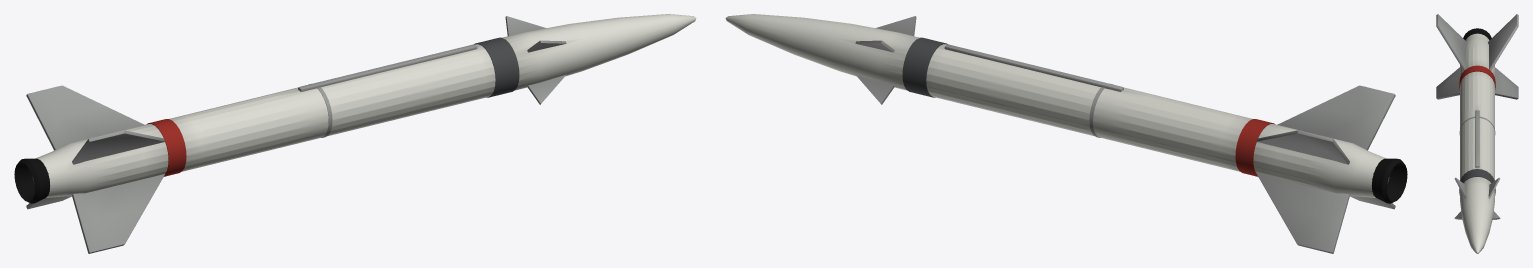
The model's file is sam_missile.glb.
The picture shows the model from 3 angles, left to right: view 1: azimuth 30°, elevation 25°; view 2: azimuth 150°, elevation 25°; view 3: azimuth 270°, elevation 25°; orthographic projection. The views are drawn at different scales.
Parts seen in each view (by area): view 1: Cube; view 2: Cube; view 3: Cube.
Boxes of the visible parts, bbox=[...] form: Cube: bbox=[14, 14, 696, 253]; Cube: bbox=[725, 14, 1407, 253]; Cube: bbox=[1436, 14, 1518, 253].
Size of the model in its own units: 5.7 by 0.9355 by 0.9355.
